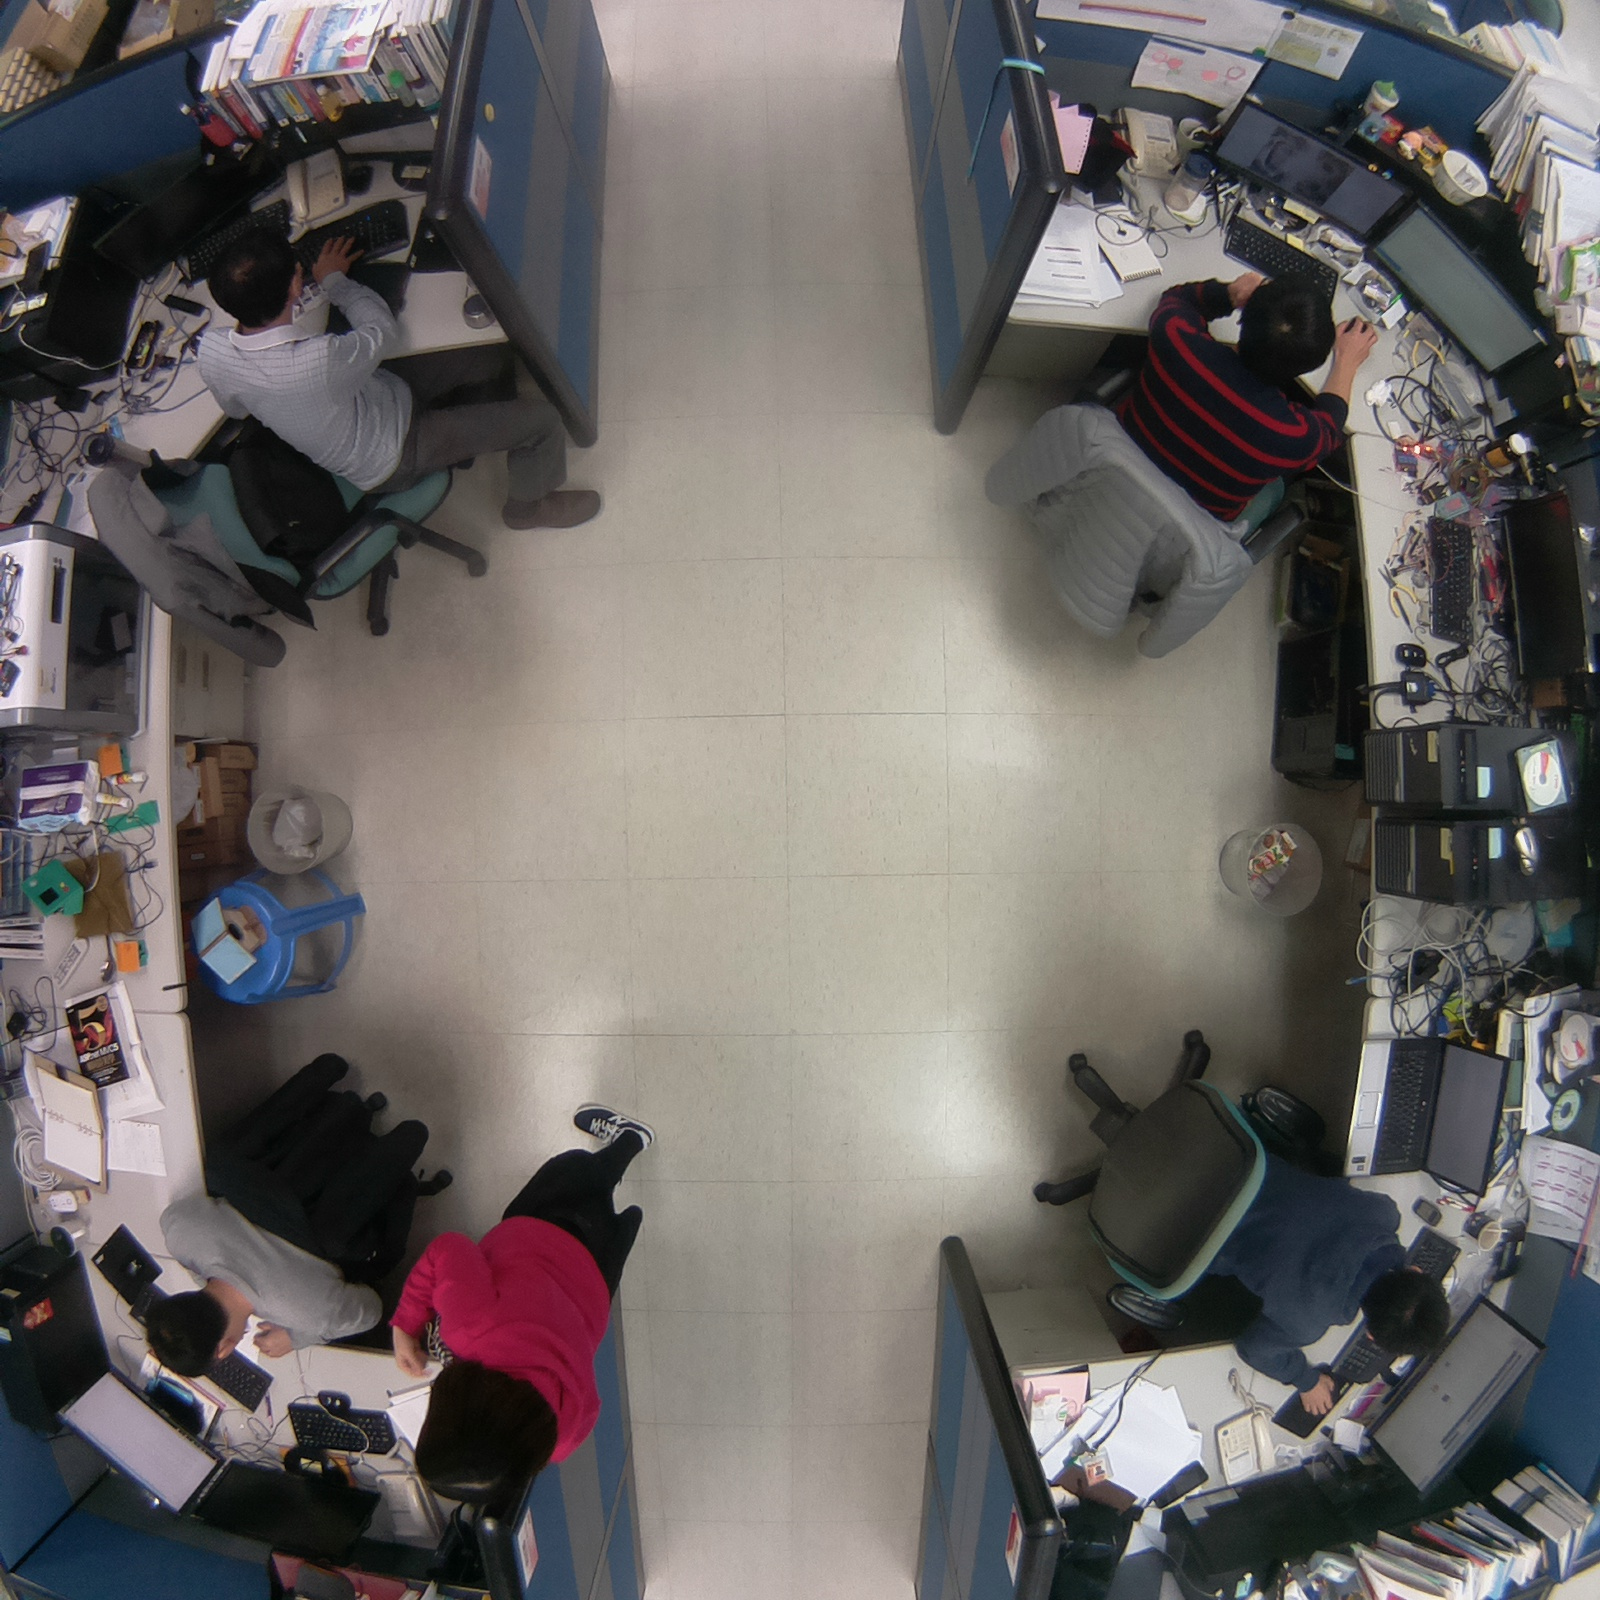head: (412, 1359, 557, 1519), (195, 227, 315, 336), (1232, 265, 1338, 380), (1353, 1261, 1461, 1368), (142, 1278, 249, 1385)
sitting: (58, 227, 617, 673), (963, 257, 1382, 681), (1019, 1014, 1456, 1417), (124, 1052, 445, 1401)
standing: (388, 1099, 659, 1512)
